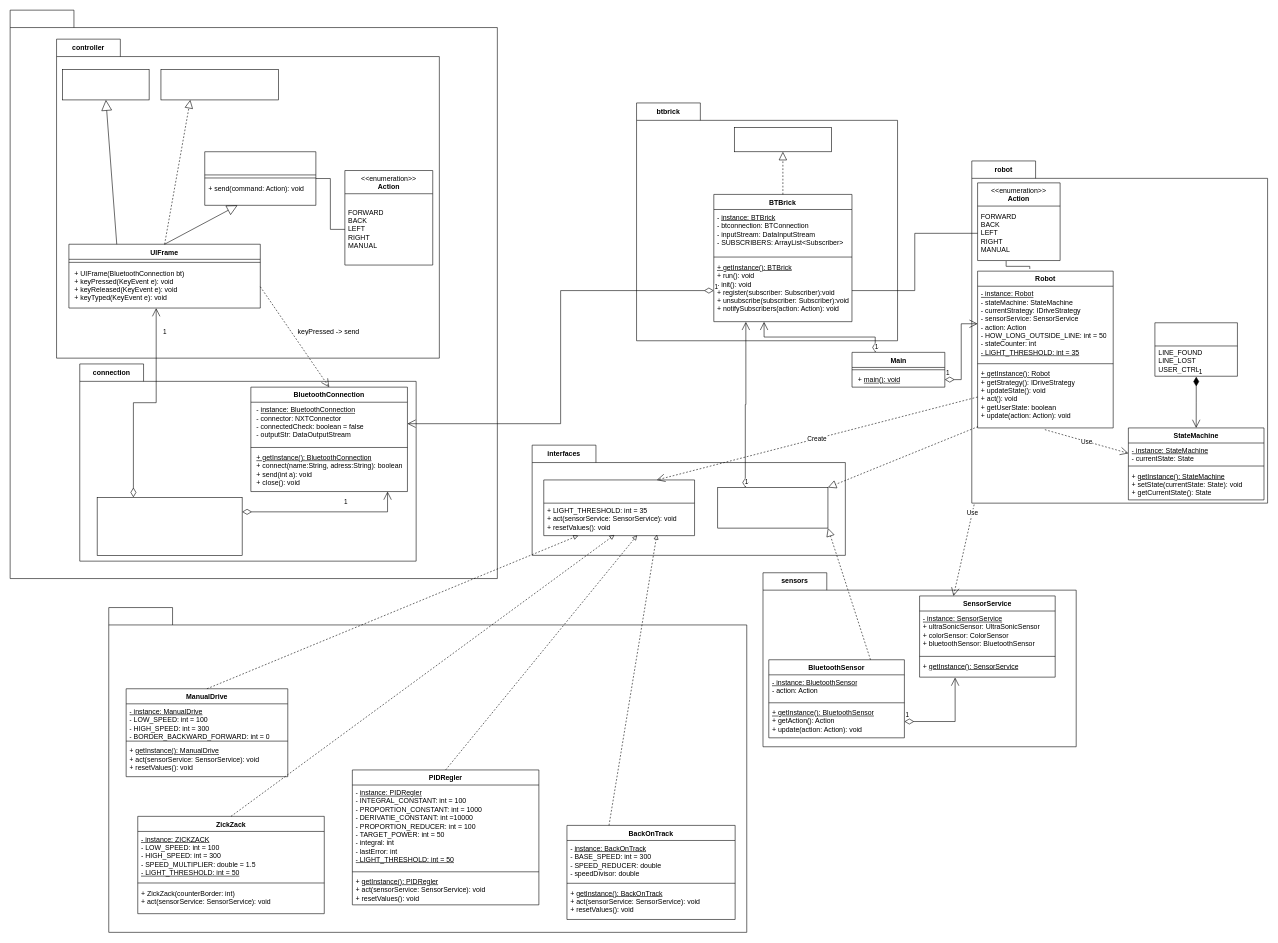
Image size: 1278x943. Some labels were removed from this diagram. Each missing label, with the box of its shape:
<<abstract>> Controller: (204, 151, 316, 205)
<<enumeration>> State: (1154, 322, 1237, 376)
<<interface>> IDriveStrategy: (543, 479, 695, 536)
<<Interface>> java.awt.event.KeyListener: (160, 69, 278, 100)
<<Interface>> java.lang.Runnable: (734, 127, 831, 152)
<<Interface>> Subscriber + update(action: Action): void: (717, 487, 828, 528)
btclient: (10, 10, 497, 579)
javax.swing.JFrame: (62, 69, 149, 100)
Main - setup(): void + main(): void: (97, 497, 242, 555)
strategies: (108, 607, 747, 932)
